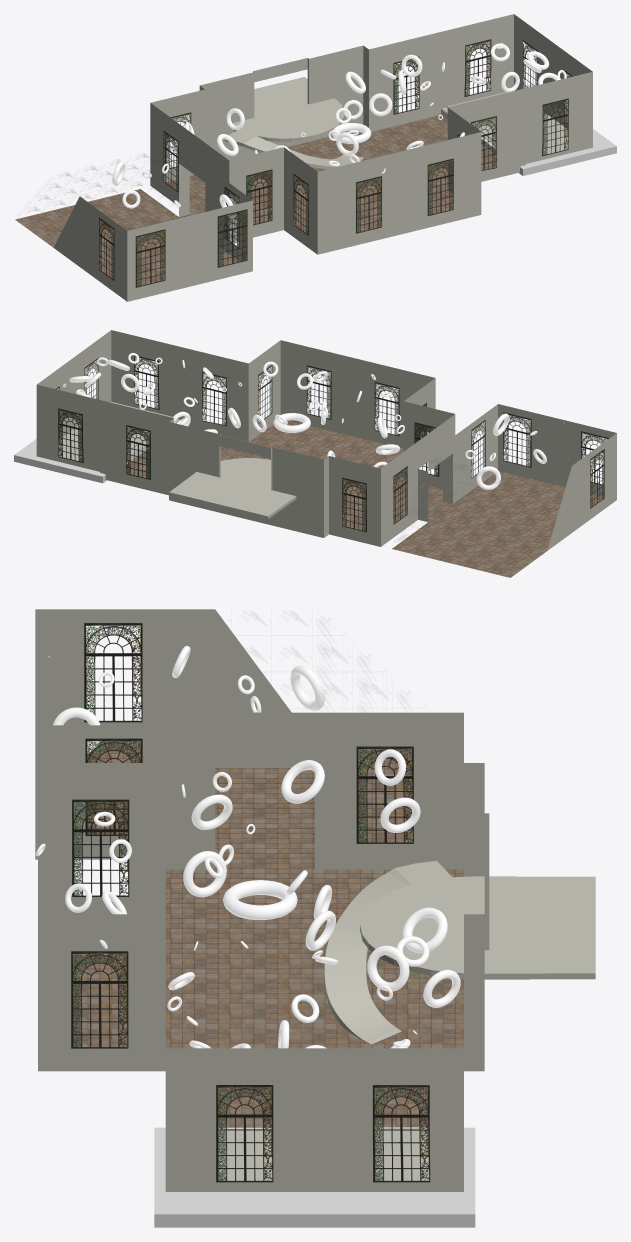
Rendered from mergedcolliders.glb.
3 renders of one model, top to bottom at view 1: azimuth 30°, elevation 25°; view 2: azimuth 150°, elevation 25°; view 3: azimuth 270°, elevation 25°, orthographic. The views are drawn at different scales.
Parts seen in each view (by area): view 1: venue, Cube, B_Axis_wall_collide.9, Torus; view 2: venue, Cube, B_Axis_wall_collide.9, Torus, B_Axis_wall_collide.6; view 3: venue, Cube, Torus, Torus.021, Torus.043, Torus.027, Torus.024, Torus.006, Torus.011, Torus.042, Torus.036.
Boxes of the visible parts, x1,y1,x2,y2 form: venue: [15, 14, 592, 301]; Cube: [441, 84, 616, 175]; B_Axis_wall_collide.9: [394, 41, 490, 113]; Torus: [332, 123, 371, 143]; venue: [36, 330, 616, 577]; Cube: [14, 396, 179, 483]; B_Axis_wall_collide.9: [59, 410, 149, 478]; Torus: [273, 413, 310, 432]; B_Axis_wall_collide.6: [393, 458, 533, 563]; venue: [35, 609, 595, 1191]; Cube: [154, 1127, 475, 1227]; Torus: [223, 880, 297, 919]; Torus.021: [281, 760, 324, 803]; Torus.043: [367, 945, 409, 991]; Torus.027: [402, 907, 447, 953]; Torus.024: [183, 851, 226, 897]; Torus.006: [290, 665, 324, 710]; Torus.011: [191, 794, 232, 829]; Torus.042: [423, 969, 460, 1007]; Torus.036: [380, 797, 420, 832].
Size of what is drawn, in the model's own units: 38.15 by 6.02 by 18.78.
Materials: 11 (9 with a texture image).
